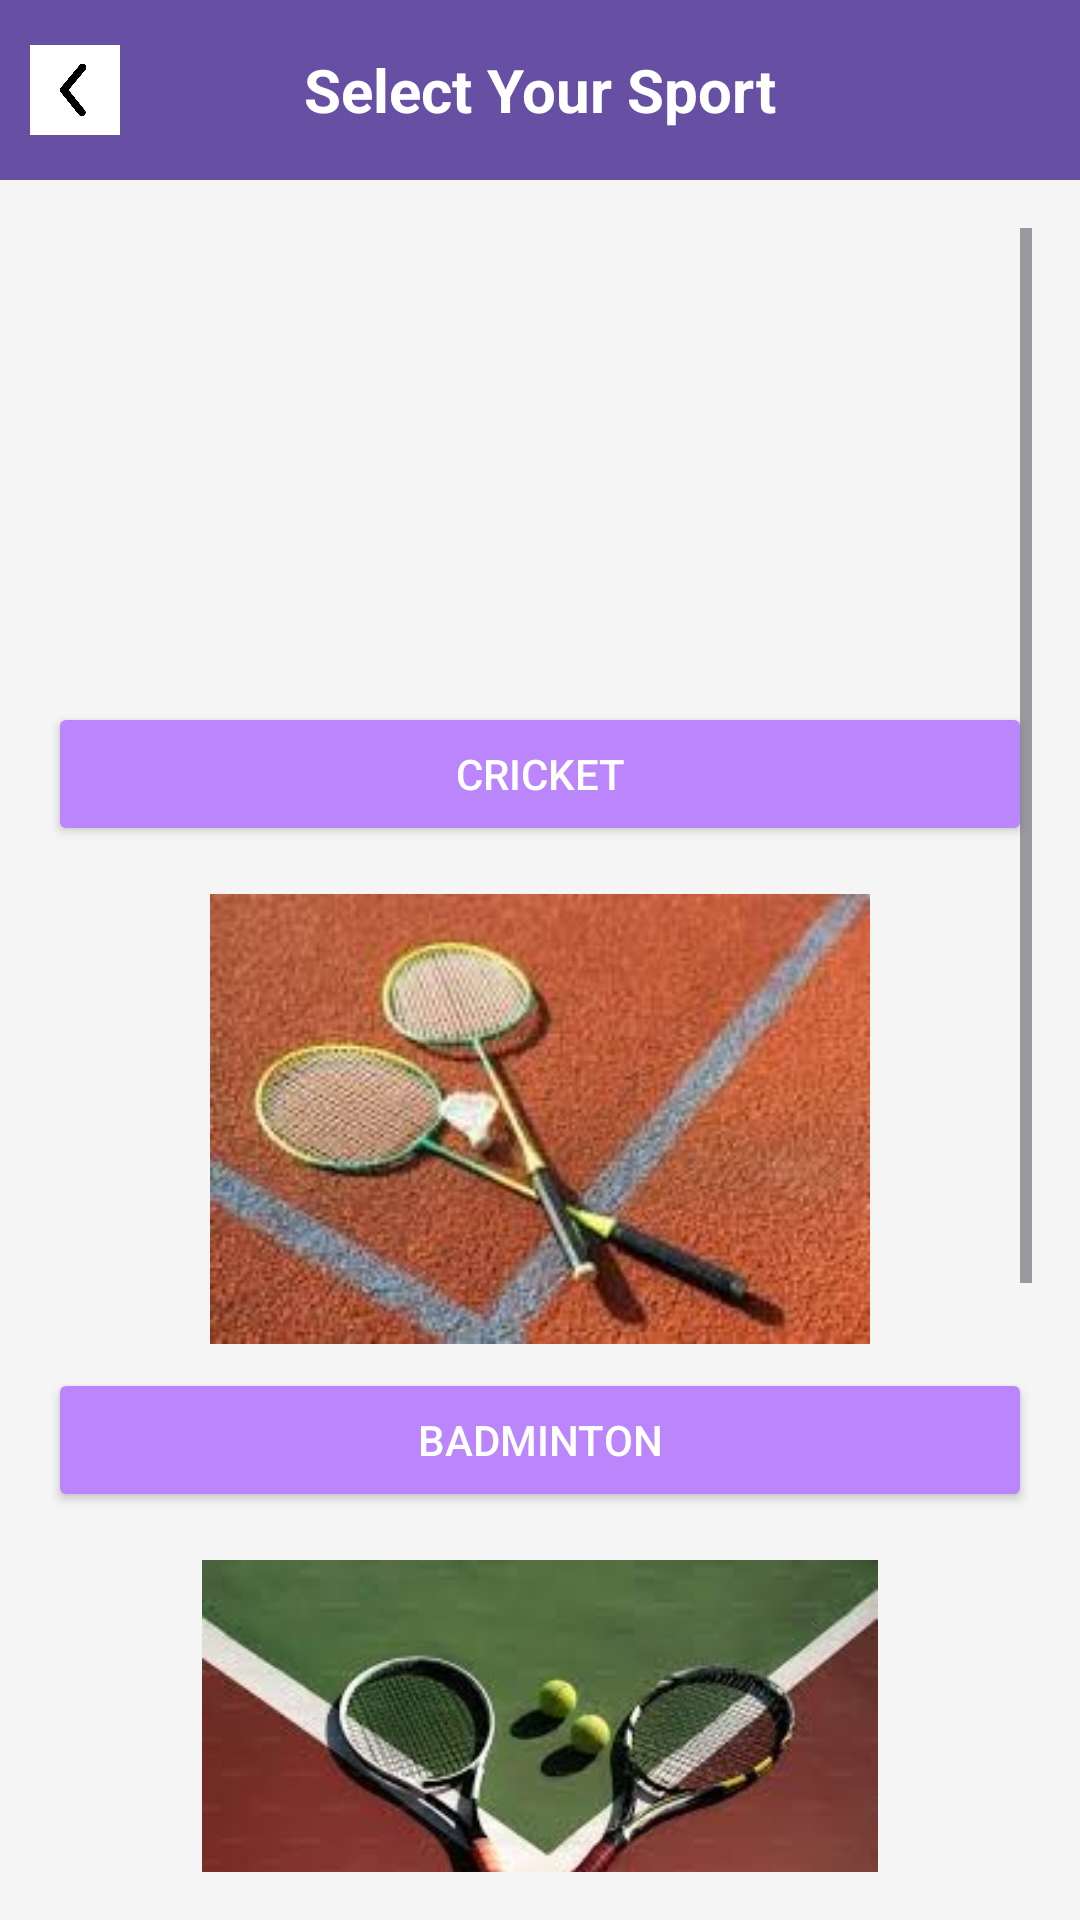

Screen size 1080x1920. Icon name, then its box in pixels as (x1, y1, x2, y2):
Back Arrow: (30, 45, 120, 135)
